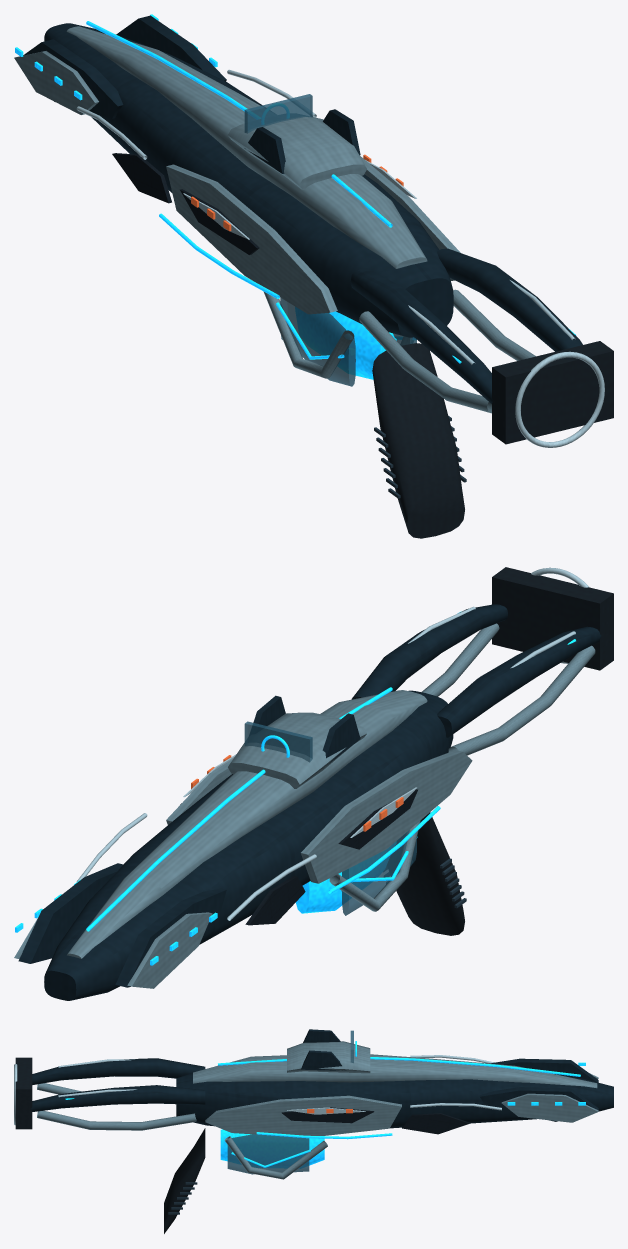
Rendered from aether9-specter-midnight-balanced.glb.
3 views of the same model, one above another, from view 1: azimuth 30°, elevation 25°; view 2: azimuth 150°, elevation 25°; view 3: azimuth 270°, elevation 25° (orthographic). The views are drawn at different scales.
Visible parts, largest first — view 1: A9.SHELL.C.001.01_Ceramic_monocoque_visu, A9.SPINE.C.002.02_Raised_continuous_tita, A9.GRIP.C.032.04_Graphite_handguard_sup, A9.REAR.C.047.05_Rear_ergonomic_polymer, A9.PANELS.L.004.LEFT_Swept_structural_che, A9.VISOR.C.057.09_Integrated_optical_cro, A9.REAR.L.013.LEFT_Monolithic_stock_arc, A9.REAR.R.027.RIGHT_Monolithic_stock_ar, A9.CORE.C.049.07_Floating_cyan_energy_p, A9.CORE.L.050.08_Laminated_outer_core_g, A9.PANELS.L.068.LEFT_Faceted_floating_pro, A9.REAR.L.014.LEFT_Lower_open_cantileve (+12 smaller); view 2: A9.SHELL.C.001.01_Ceramic_monocoque_visu, A9.SPINE.C.002.02_Raised_continuous_tita, A9.REAR.C.047.05_Rear_ergonomic_polymer, A9.PANELS.L.004.LEFT_Swept_structural_che, A9.VISOR.C.057.09_Integrated_optical_cro, A9.GRIP.C.032.04_Graphite_handguard_sup, A9.REAR.L.013.LEFT_Monolithic_stock_arc, A9.REAR.R.027.RIGHT_Monolithic_stock_ar, A9.PANELS.R.021.RIGHT_Vent_side_aero_fin, A9.PANELS.L.068.LEFT_Faceted_floating_pro, A9.REAR.L.014.LEFT_Lower_open_cantileve, A9.PANELS.L.007.LEFT_Vent_side_aero_fin (+12 smaller); view 3: A9.SHELL.C.001.01_Ceramic_monocoque_visu, A9.SPINE.C.002.02_Raised_continuous_tita, A9.PANELS.R.018.RIGHT_Swept_structural_ch, A9.REAR.R.027.RIGHT_Monolithic_stock_ar, A9.REAR.L.013.LEFT_Monolithic_stock_arc, A9.CORE.C.049.07_Floating_cyan_energy_p, A9.CORE.R.051.08_Laminated_outer_core_g, A9.VISOR.C.057.09_Integrated_optical_cro, A9.PANELS.R.072.RIGHT_Faceted_floating_pr, A9.GRIP.C.032.04_Graphite_handguard_sup, A9.REAR.R.028.RIGHT_Lower_open_cantilev, A9.REAR.C.047.05_Rear_ergonomic_polymer (+11 smaller).
Boxes of the visible parts, x1,y1,x2,y2 form: A9.SHELL.C.001.01_Ceramic_monocoque_visu: (44,23,453,337); A9.SPINE.C.002.02_Raised_continuous_tita: (66,26,427,268); A9.GRIP.C.032.04_Graphite_handguard_sup: (372,343,464,538); A9.REAR.C.047.05_Rear_ergonomic_polymer: (492,341,613,444); A9.PANELS.L.004.LEFT_Swept_structural_che: (166,164,337,314); A9.VISOR.C.057.09_Integrated_optical_cro: (228,114,366,189); A9.REAR.L.013.LEFT_Monolithic_stock_arc: (350,268,492,403); A9.REAR.R.027.RIGHT_Monolithic_stock_ar: (437,248,582,351); A9.CORE.C.049.07_Floating_cyan_energy_p: (295,307,394,379); A9.CORE.L.050.08_Laminated_outer_core_g: (280,297,355,386); A9.PANELS.L.068.LEFT_Faceted_floating_pro: (14,51,98,114); A9.REAR.L.014.LEFT_Lower_open_cantileve: (359,311,491,413); A9.SHELL.C.001.01_Ceramic_monocoque_visu: (44,690,453,1000); A9.SPINE.C.002.02_Raised_continuous_tita: (67,690,427,958); A9.REAR.C.047.05_Rear_ergonomic_polymer: (492,567,613,670); A9.PANELS.L.004.LEFT_Swept_structural_che: (301,750,472,883); A9.VISOR.C.057.09_Integrated_optical_cro: (228,712,366,788); A9.GRIP.C.032.04_Graphite_handguard_sup: (387,812,464,935); A9.REAR.L.013.LEFT_Monolithic_stock_arc: (437,626,601,737); A9.REAR.R.027.RIGHT_Monolithic_stock_ar: (351,604,507,699); A9.PANELS.R.021.RIGHT_Vent_side_aero_fin: (18,863,123,963); A9.PANELS.L.068.LEFT_Faceted_floating_pro: (127,912,212,988); A9.REAR.L.014.LEFT_Lower_open_cantileve: (448,645,595,755); A9.PANELS.L.007.LEFT_Vent_side_aero_fin: (115,888,226,987); A9.SHELL.C.001.01_Ceramic_monocoque_visu: (176,1073,613,1128); A9.SPINE.C.002.02_Raised_continuous_tita: (193,1054,597,1088); A9.PANELS.R.018.RIGHT_Swept_structural_ch: (205,1095,401,1135); A9.REAR.R.027.RIGHT_Monolithic_stock_ar: (31,1085,205,1111); A9.REAR.L.013.LEFT_Monolithic_stock_arc: (32,1058,205,1084); A9.CORE.C.049.07_Floating_cyan_energy_p: (220,1129,324,1168); A9.CORE.R.051.08_Laminated_outer_core_g: (227,1134,309,1174); A9.VISOR.C.057.09_Integrated_optical_cro: (287,1041,370,1073); A9.PANELS.R.072.RIGHT_Faceted_floating_pr: (501,1093,598,1122); A9.GRIP.C.032.04_Graphite_handguard_sup: (164,1128,205,1233); A9.REAR.R.028.RIGHT_Lower_open_cantilev: (37,1110,196,1130); A9.REAR.C.047.05_Rear_ergonomic_polymer: (15,1057,32,1129).
Size of the model in its own units: 0.8735 by 1.52 by 4.33.
Materials: 9 (9 with a texture image).
